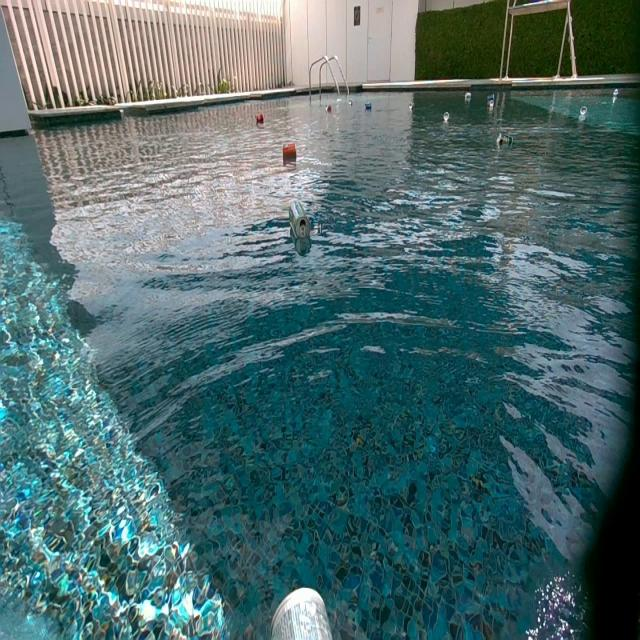Cans: (267, 585, 340, 637), (288, 201, 308, 241), (496, 133, 512, 150), (282, 143, 296, 157), (255, 112, 264, 124), (463, 94, 472, 105), (578, 106, 586, 116), (614, 89, 622, 99), (582, 106, 590, 116), (364, 102, 372, 111), (488, 95, 496, 104), (444, 111, 451, 121), (325, 104, 332, 114), (348, 100, 353, 107), (410, 104, 415, 110)
